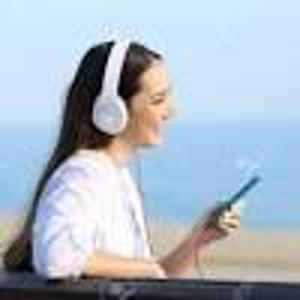Headphones: (91, 35, 141, 135)
